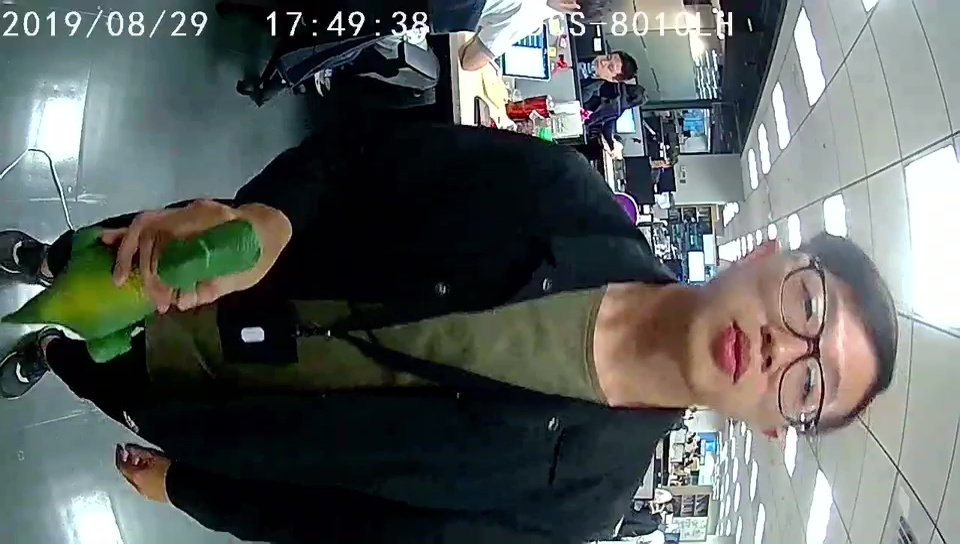rex: (37, 217, 261, 364)
